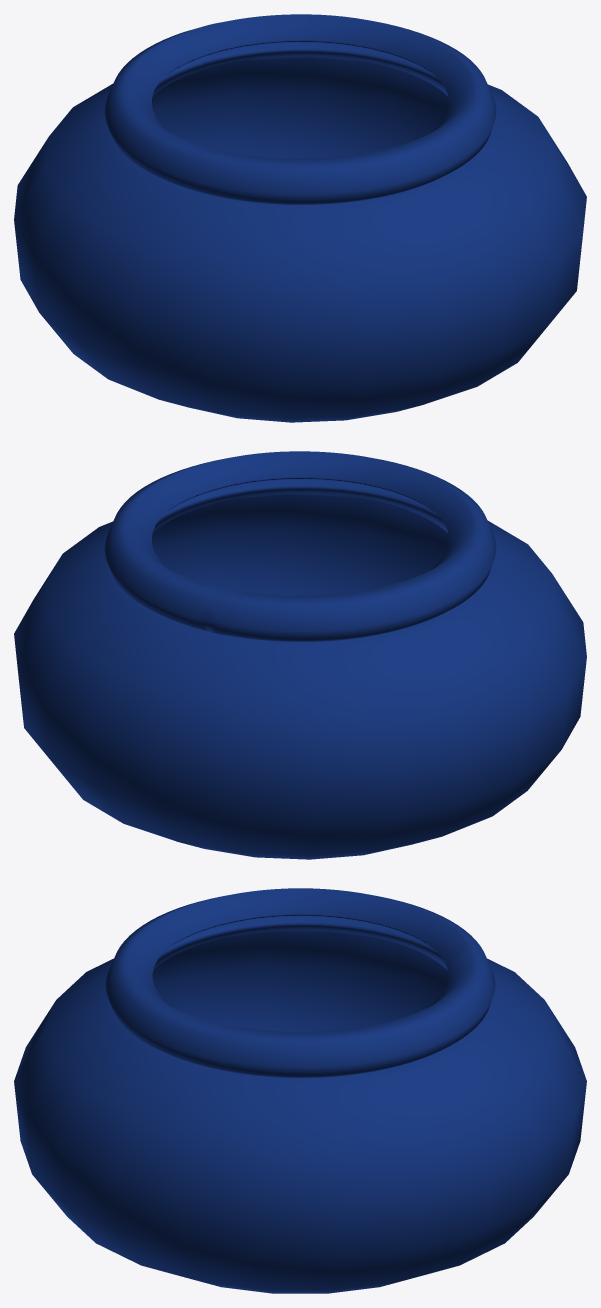
The model's file is FishAndBowl.obj.
3 renders of one model, top to bottom at view 1: azimuth 30°, elevation 25°; view 2: azimuth 150°, elevation 25°; view 3: azimuth 270°, elevation 25°, orthographic.
Visible parts, largest first — view 1: FishBowl; view 2: FishBowl; view 3: FishBowl.
Part boxes in pixels (x1,y1,x2,y2): FishBowl: (14, 14, 586, 422); FishBowl: (14, 451, 586, 859); FishBowl: (14, 888, 586, 1293).
Bounding box in the file's own units: 22.45 × 11.78 × 22.69.
